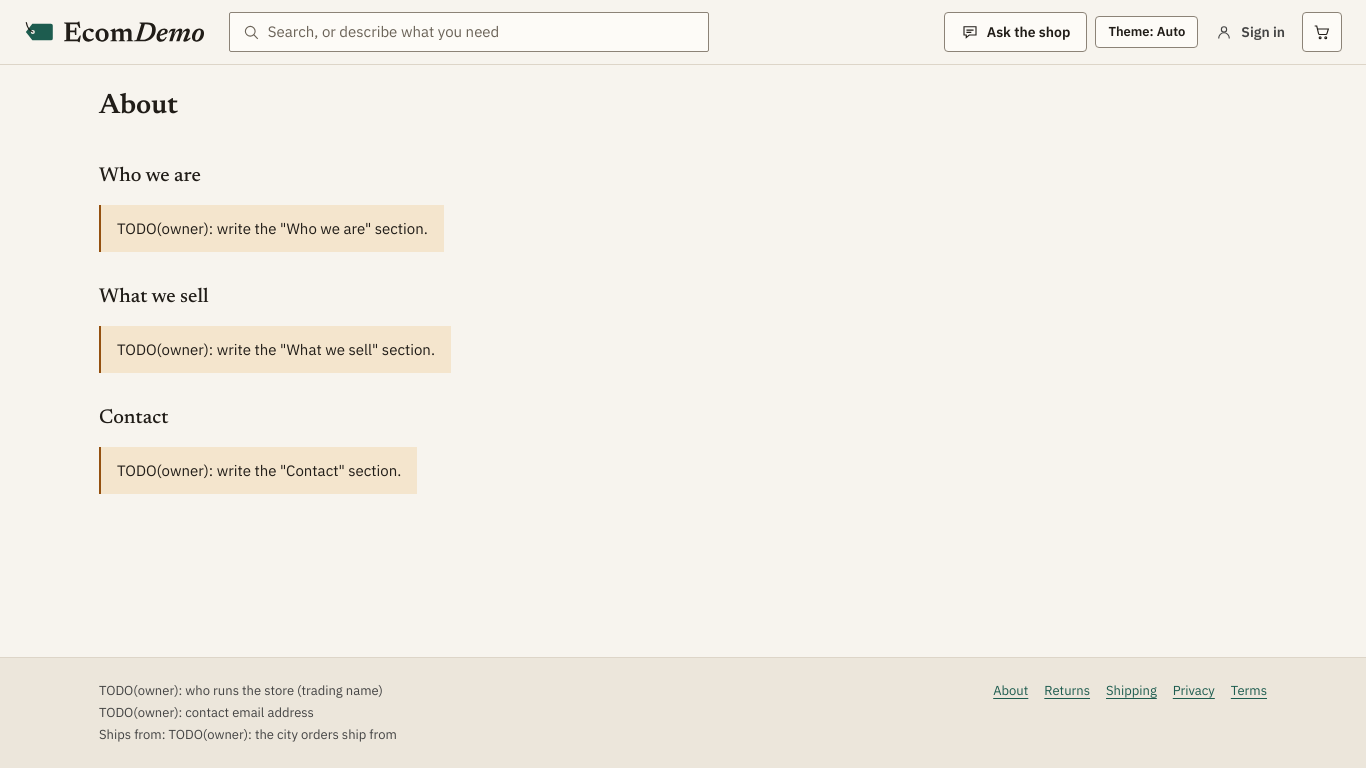
layout › links the store name to the product list, and signed out the cart link leads to the guest cart
This screenshot has width=1366, height=768.
Expected: the heading "About" is shown, [99,89,178,123]
Click the link named "Cart" at {"x": 1322, "y": 32}, box [1302,12,1342,52]
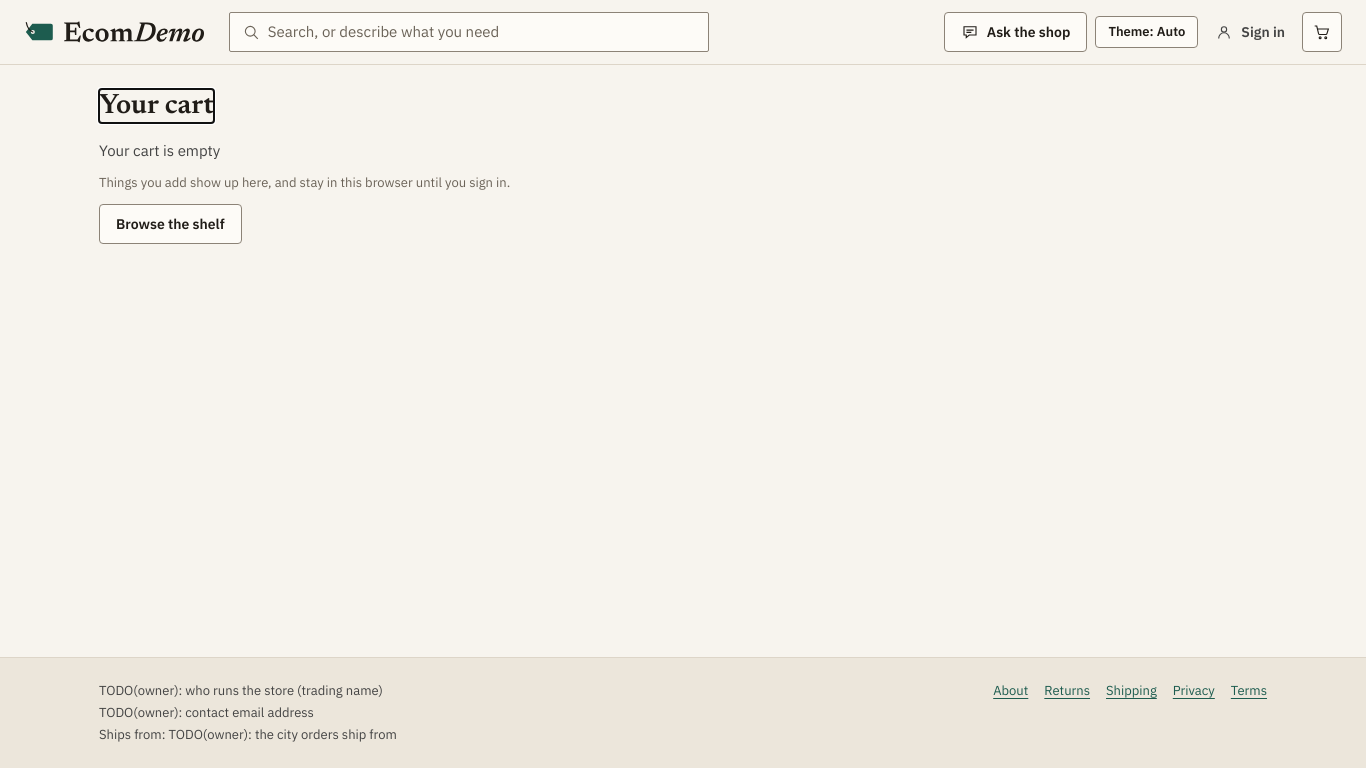
Expected: the heading "Your cart" is shown, [99,89,214,123]
Expected: the text "Your cart is empty" is shown, [99,139,220,162]
Click the link "Sign in" at {"x": 1250, "y": 32}, box [1215,23,1285,41]
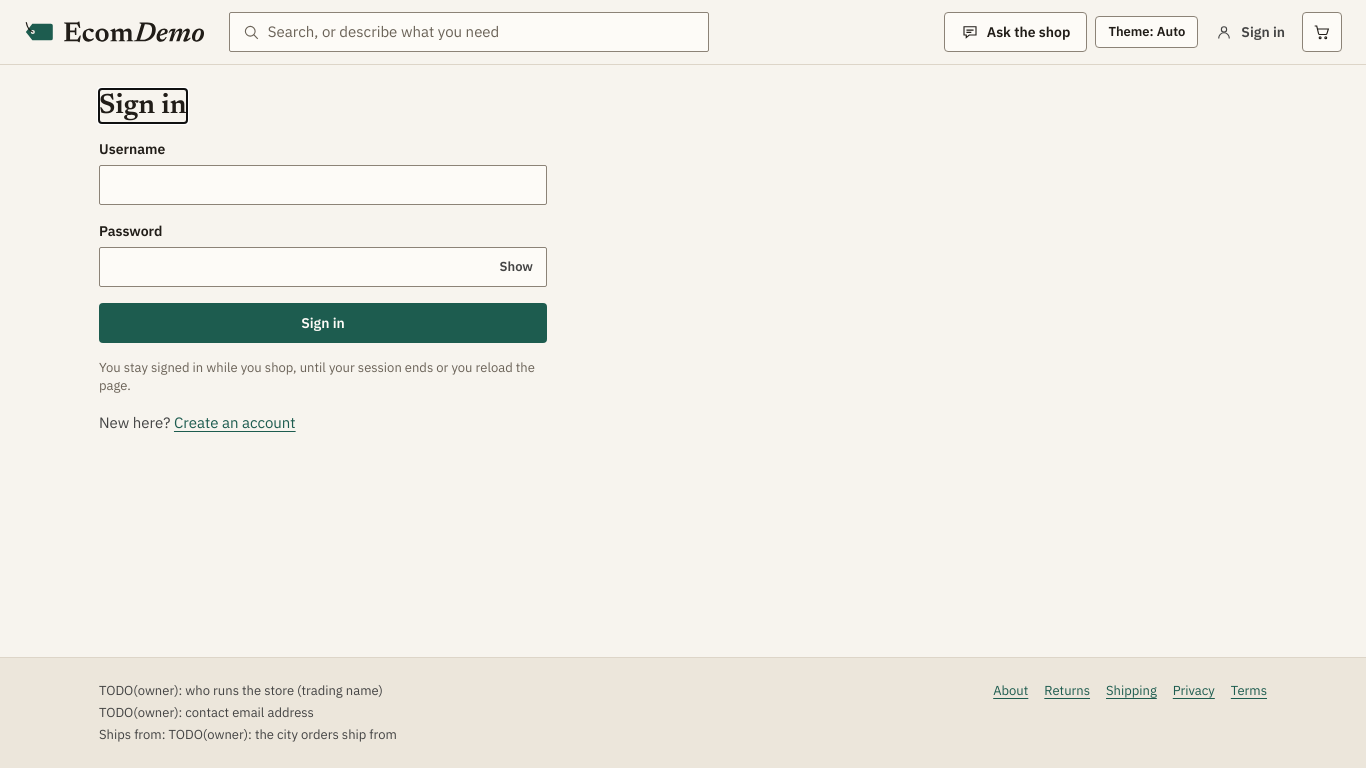
Expected: the heading "Sign in" is shown, [99,89,187,123]
Click the link named "EcomDemo" at {"x": 114, "y": 32}, box [24,19,205,45]
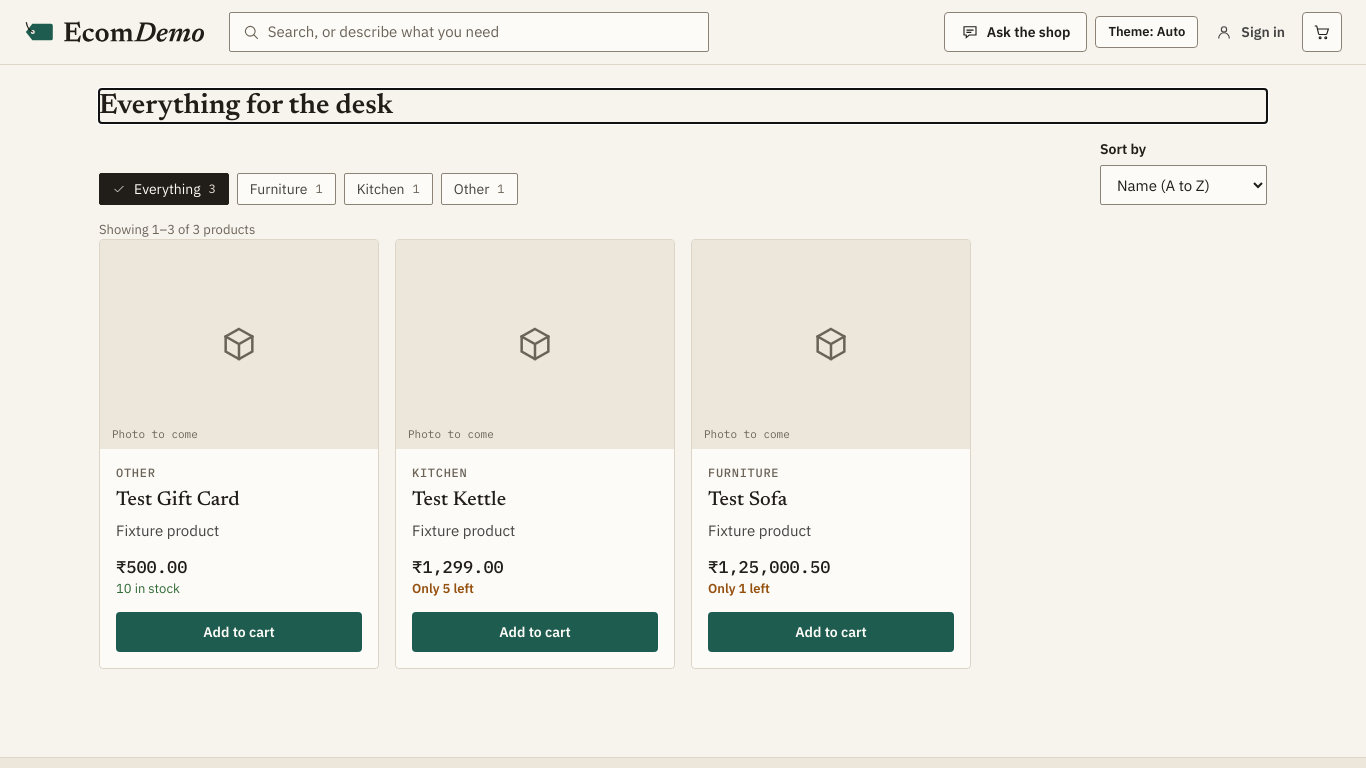
Expected: the heading "Everything for the desk" is shown, [99,92,393,120]
